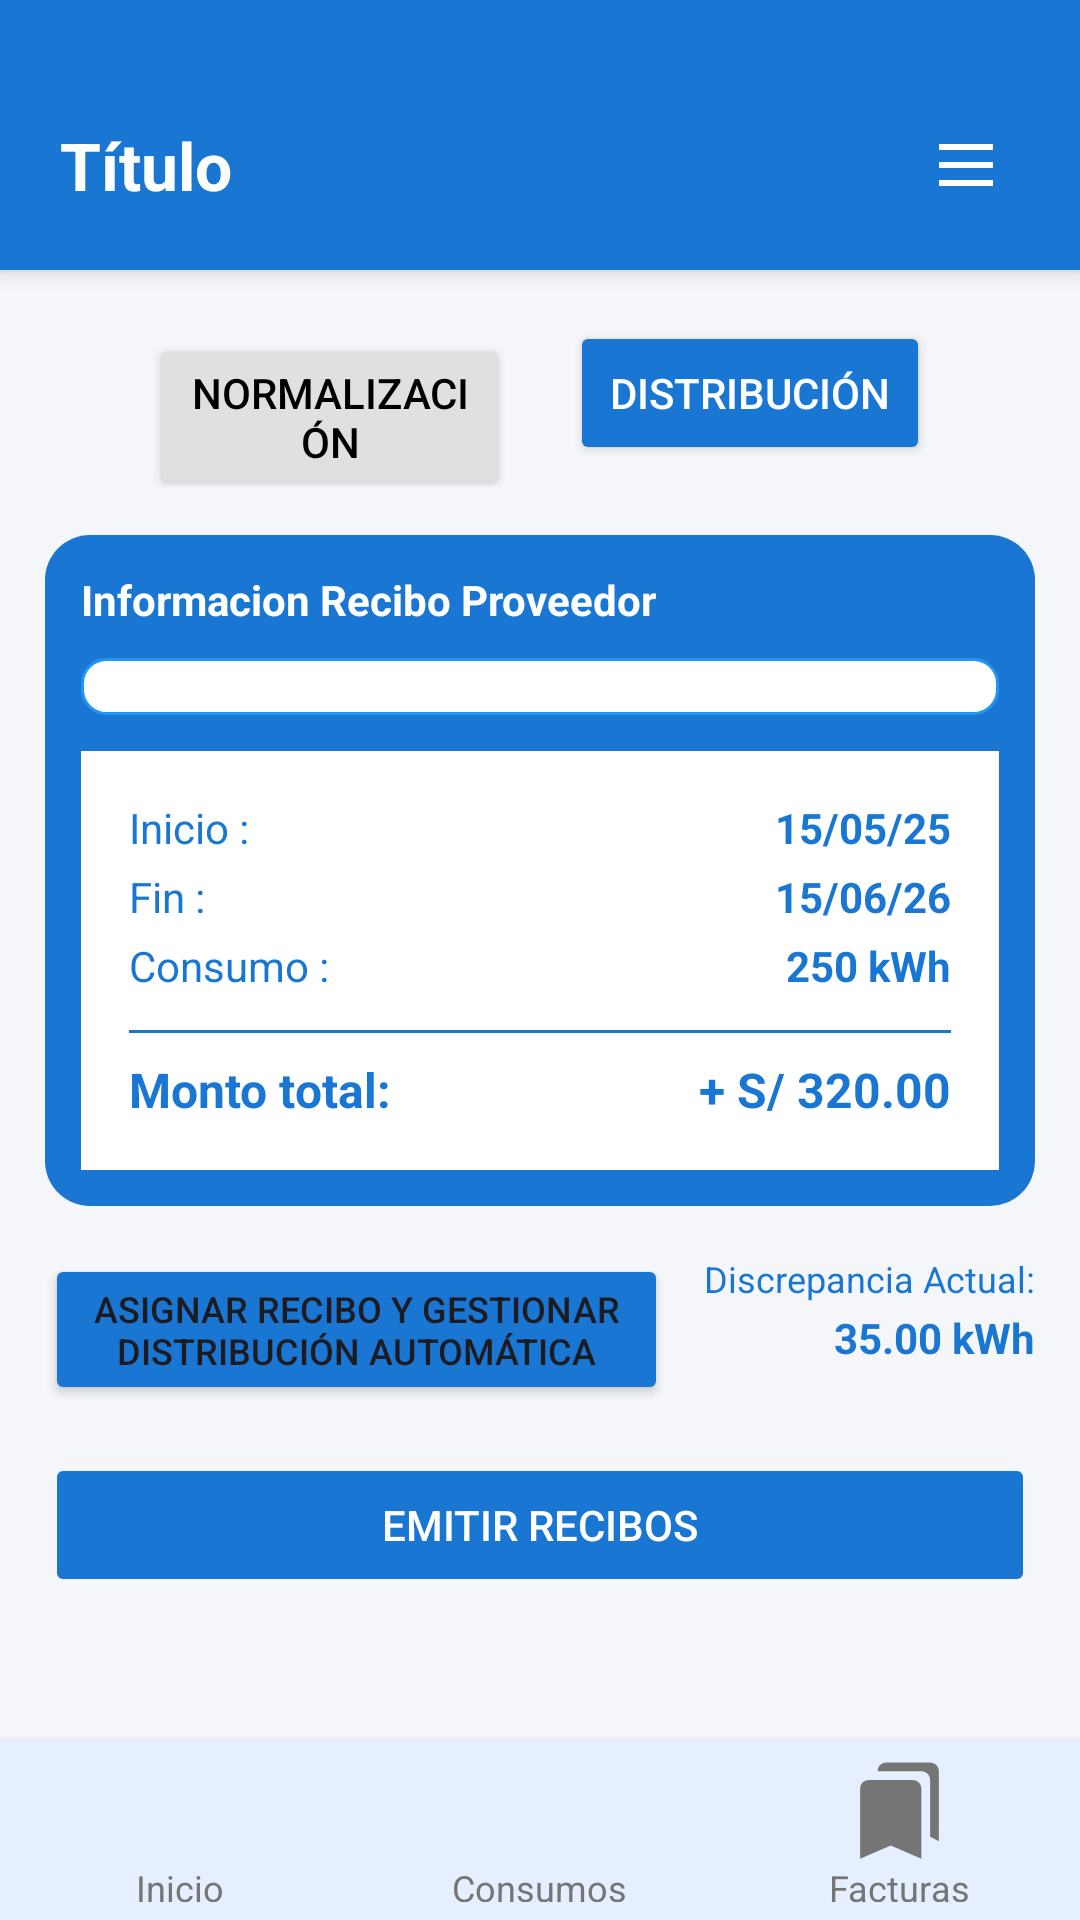

Icon click points for this 1080px×1920px phone screenshot, format point (x, y):
dash recibos: point (899, 1810)
Menú principal: point (966, 165)
